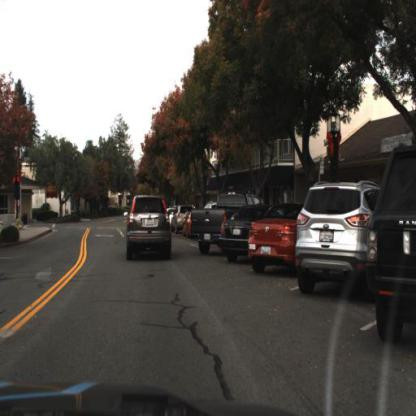car: (294, 173, 377, 308), (374, 146, 416, 345), (248, 195, 301, 277), (123, 191, 178, 264), (189, 190, 248, 252), (219, 204, 254, 263)
